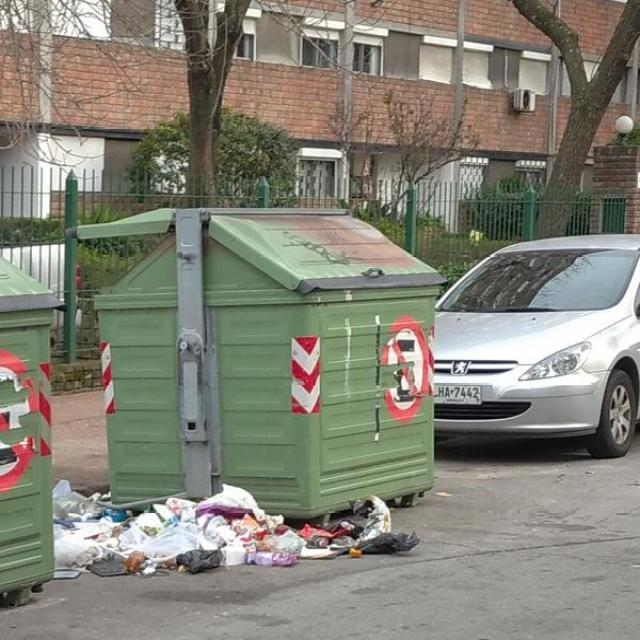garbage: (46, 470, 428, 581)
